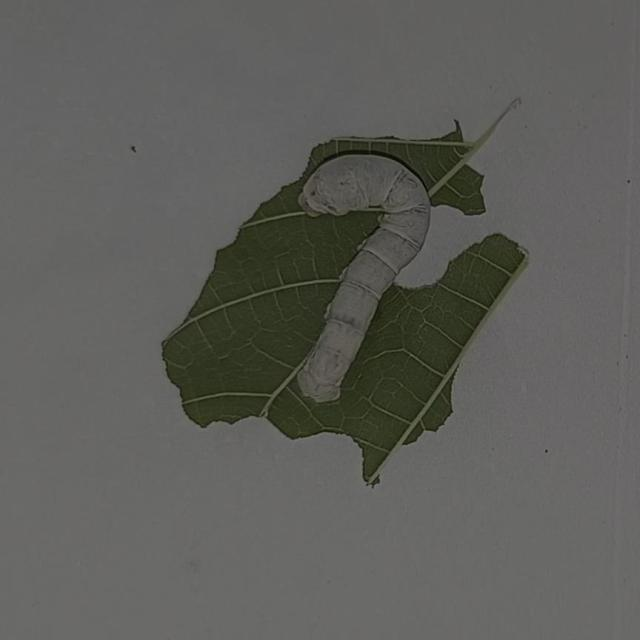Healthy: (284, 146, 438, 408)
